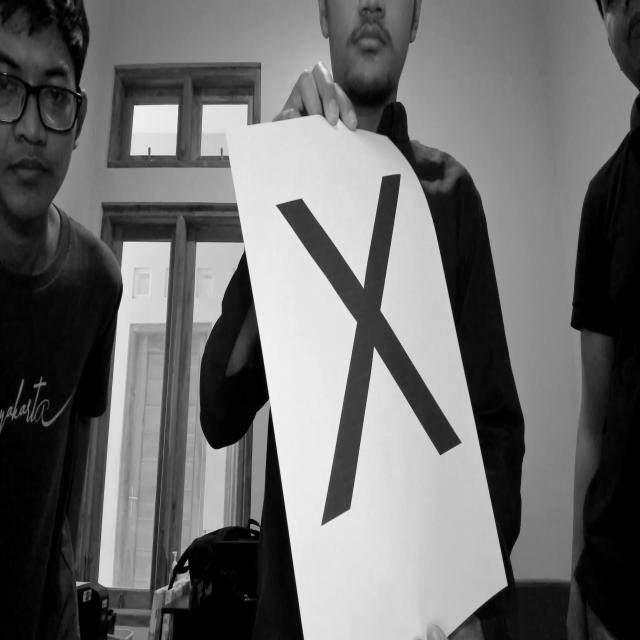x: (255, 153, 477, 539)
